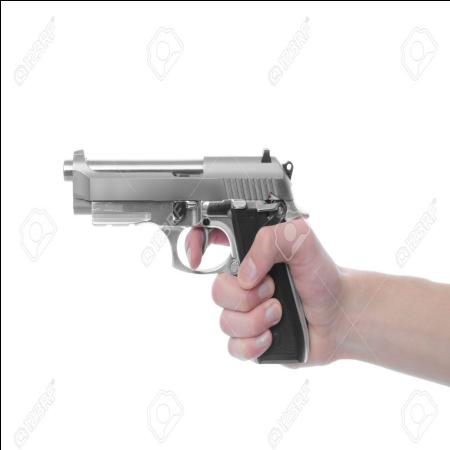Pistol: (61, 144, 315, 372)
